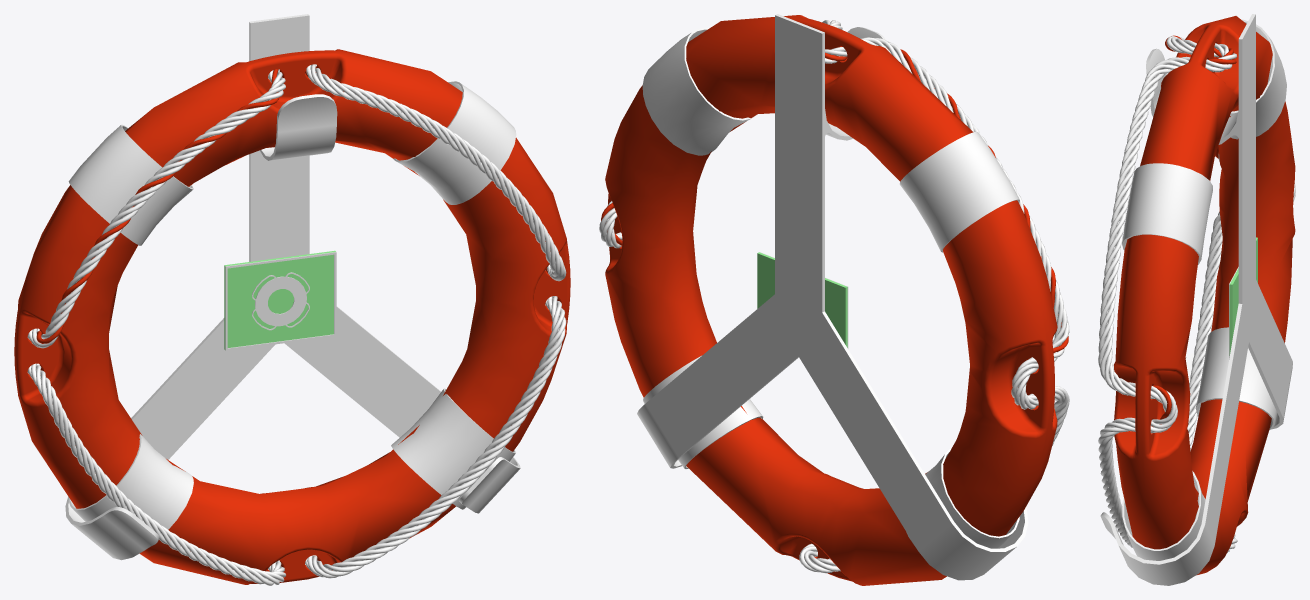
3 renders of one model, left to right at view 1: azimuth 30°, elevation 25°; view 2: azimuth 150°, elevation 25°; view 3: azimuth 270°, elevation 25°, orthographic. The views are drawn at different scales.
Parts seen in each view (by area): view 1: NAUO26; view 2: NAUO26; view 3: NAUO26.
Boxes of the visible parts, x1,y1,x2,y2 form: NAUO26: (14,14,570,585); NAUO26: (599,14,1069,585); NAUO26: (1098,14,1295,585).
Bounding box in the file's own units: 0.7326 × 0.7744 × 0.2594.
